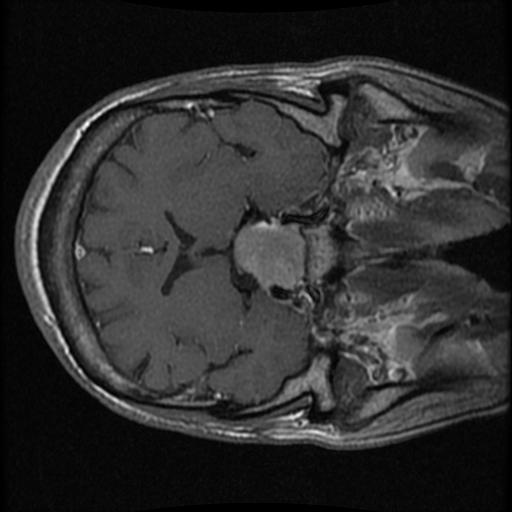pituitary tumour: (234, 225, 304, 288)
